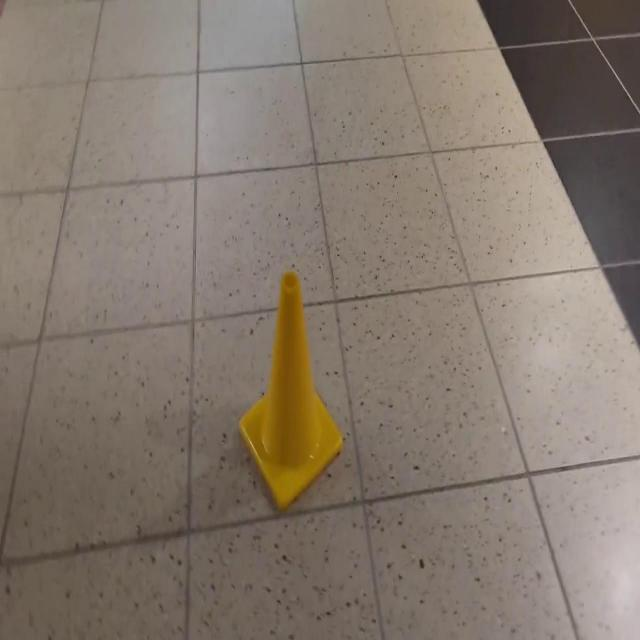frc_cone: (237, 269, 343, 511)
